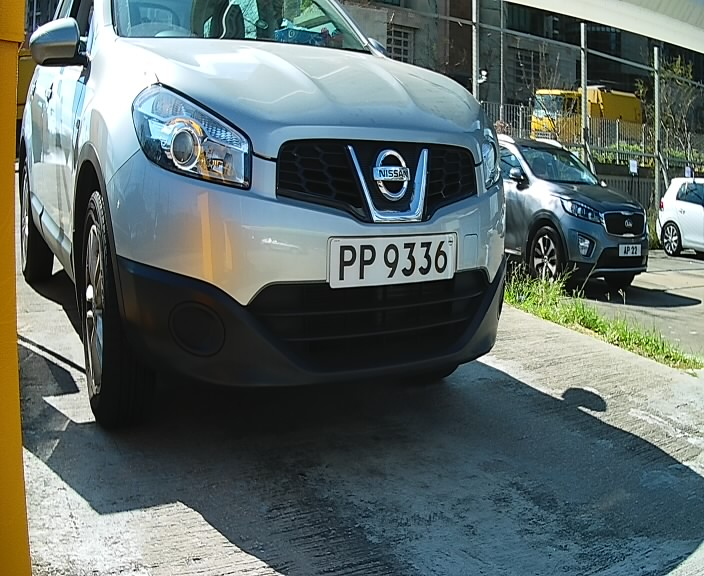Car: (2, 2, 525, 454)
License Plate: (322, 224, 463, 299)
